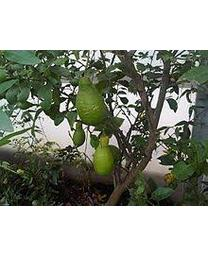lemon: (75, 74, 111, 124), (92, 133, 115, 178), (72, 120, 85, 146)
